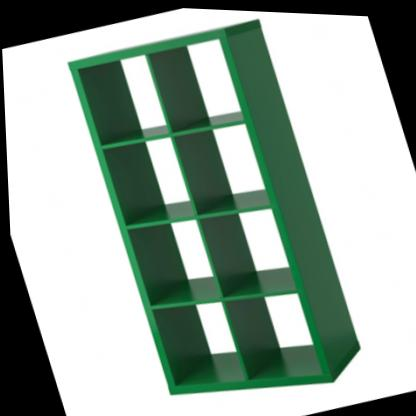Cabinet: (57, 2, 372, 416)
